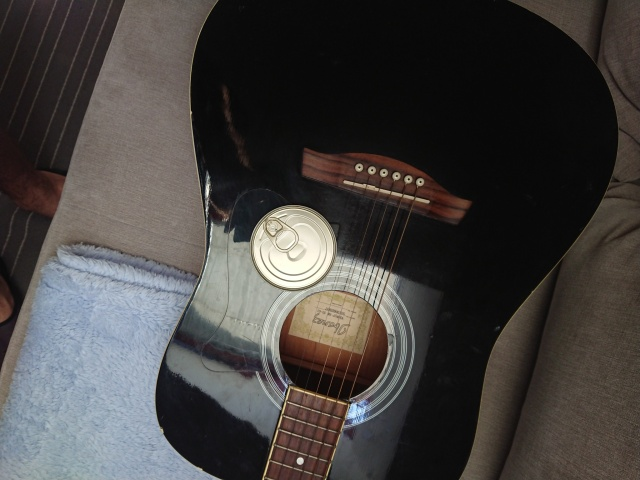Gavrilovic Pork Liver Pate 100g: (247, 201, 339, 293)
